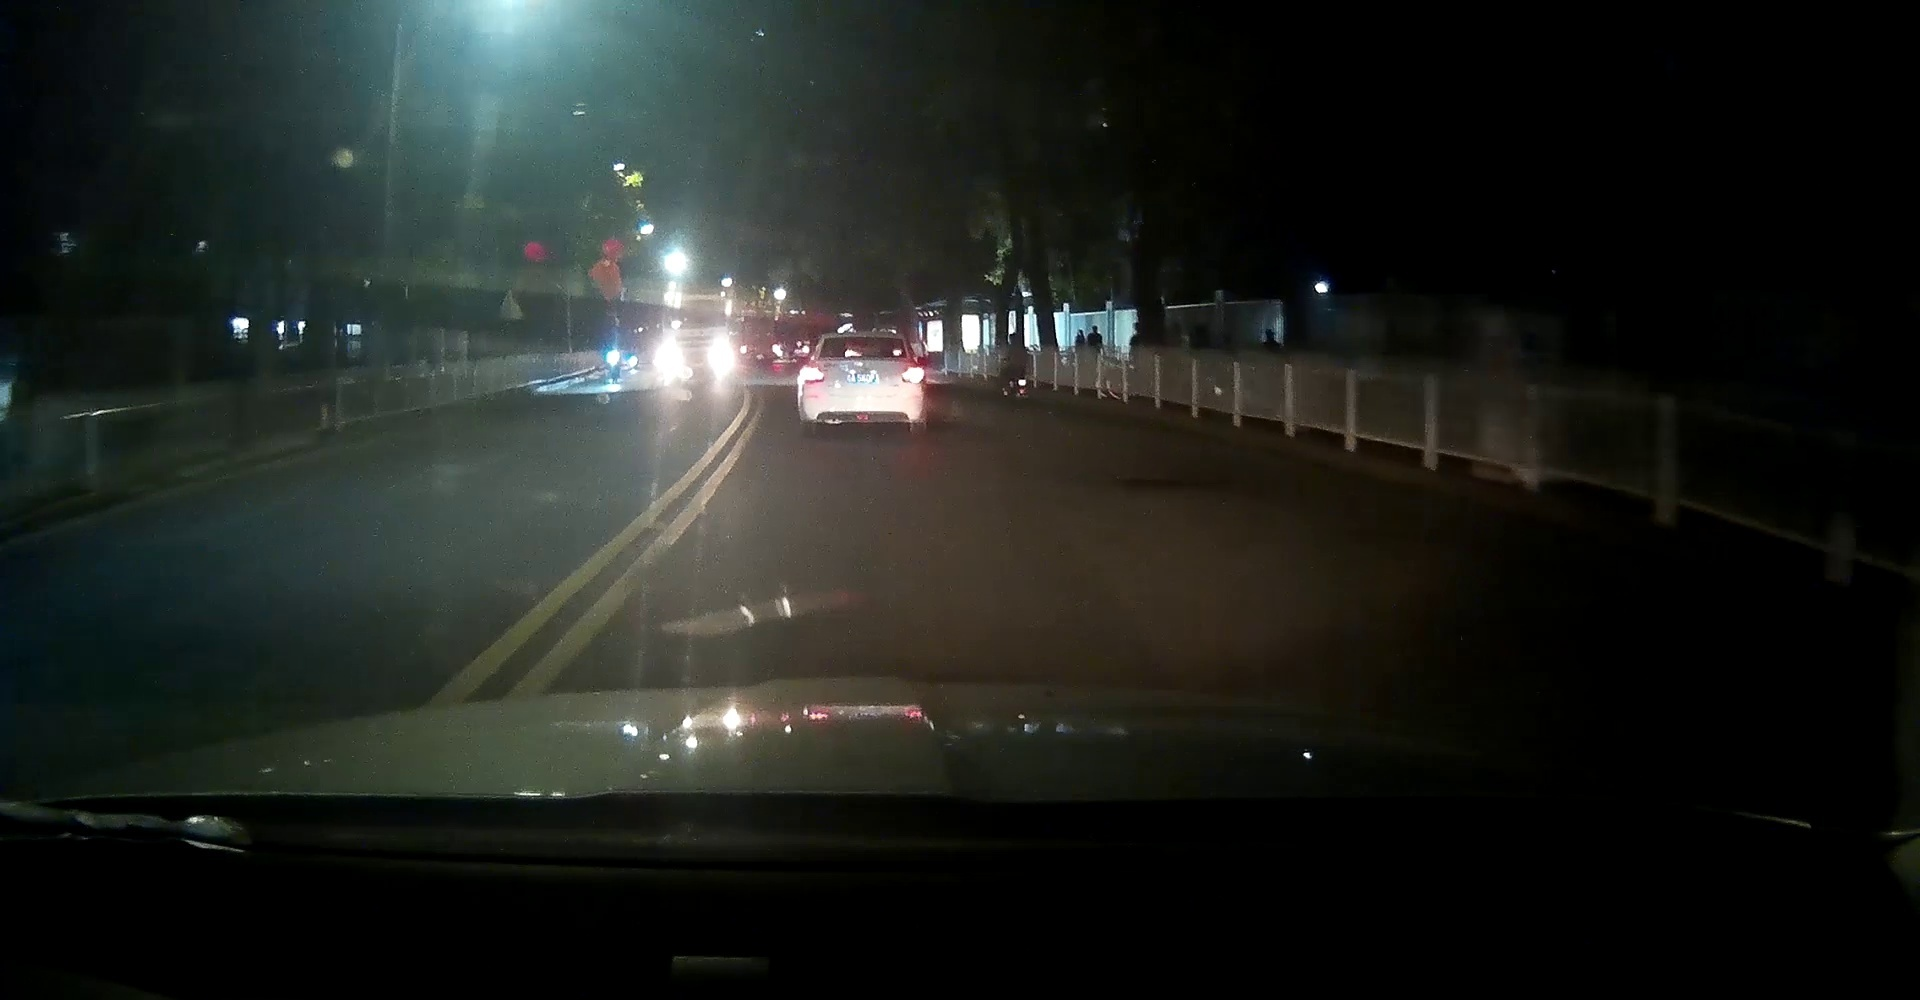L_light: (799, 367, 825, 382)
R_light: (902, 368, 924, 383)
T_light: (858, 352, 874, 355)
night-right: (796, 329, 930, 434)
